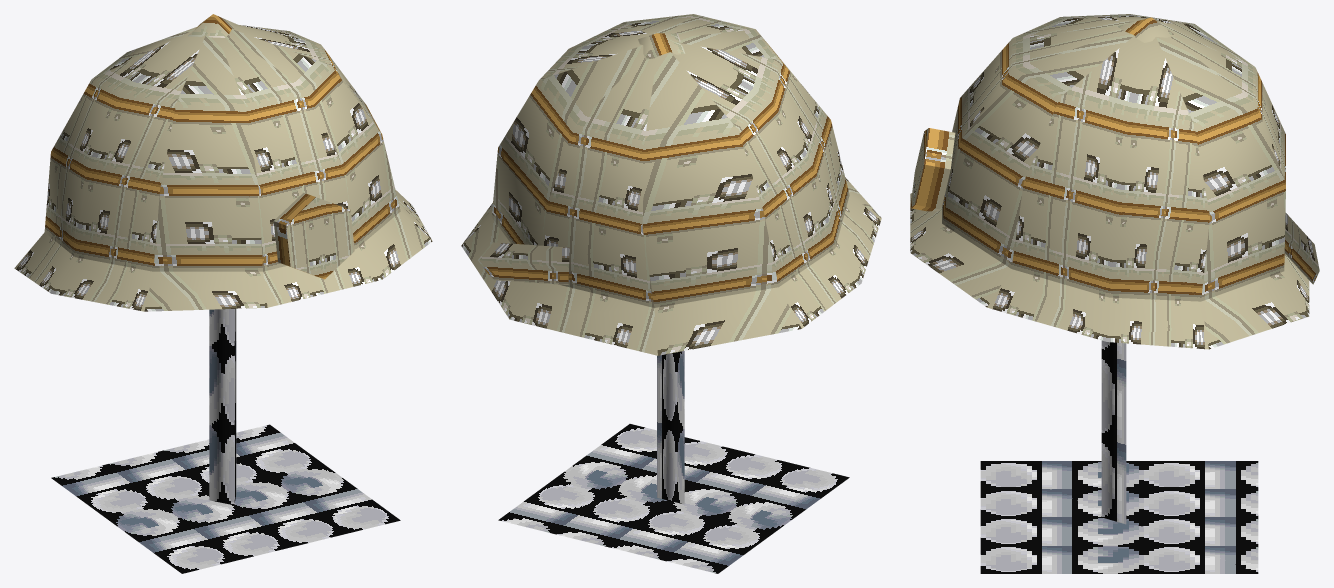
File: 2880head015_c.gltf
3 renders of one model, left to right at view 1: azimuth 30°, elevation 25°; view 2: azimuth 150°, elevation 25°; view 3: azimuth 270°, elevation 25°, orthographic. The views are drawn at different scales.
Visible parts, largest first — view 1: 2880head015_c; view 2: 2880head015_c; view 3: 2880head015_c.
Part boxes in pixels (x1,y1,x2,y2): 2880head015_c: (14, 14, 432, 573); 2880head015_c: (461, 14, 881, 573); 2880head015_c: (910, 14, 1319, 573).
Size of the model in its own units: 0.7632 by 0.9641 by 0.7078.
2 materials, 2 textured.
